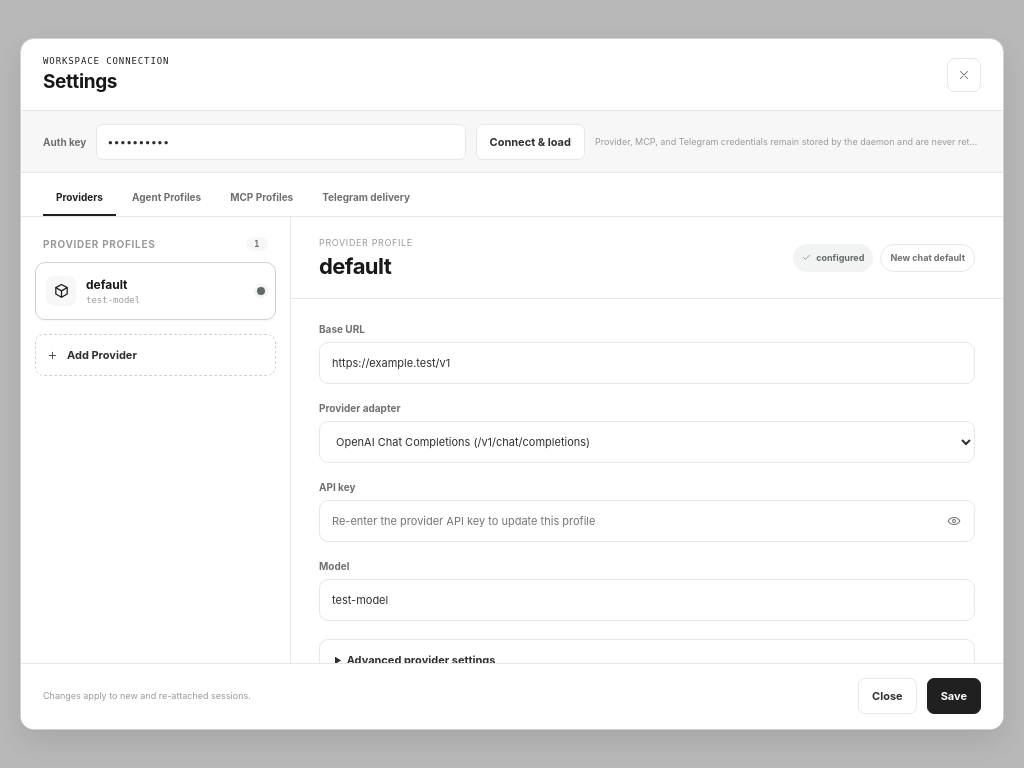
Test: SettingsModal › requires the provider API key after profile fields change
Replace the text in the field showing "test-model" with "changed-model". click: (647, 600)
box: top-left (319, 579), bottom-right (975, 621)
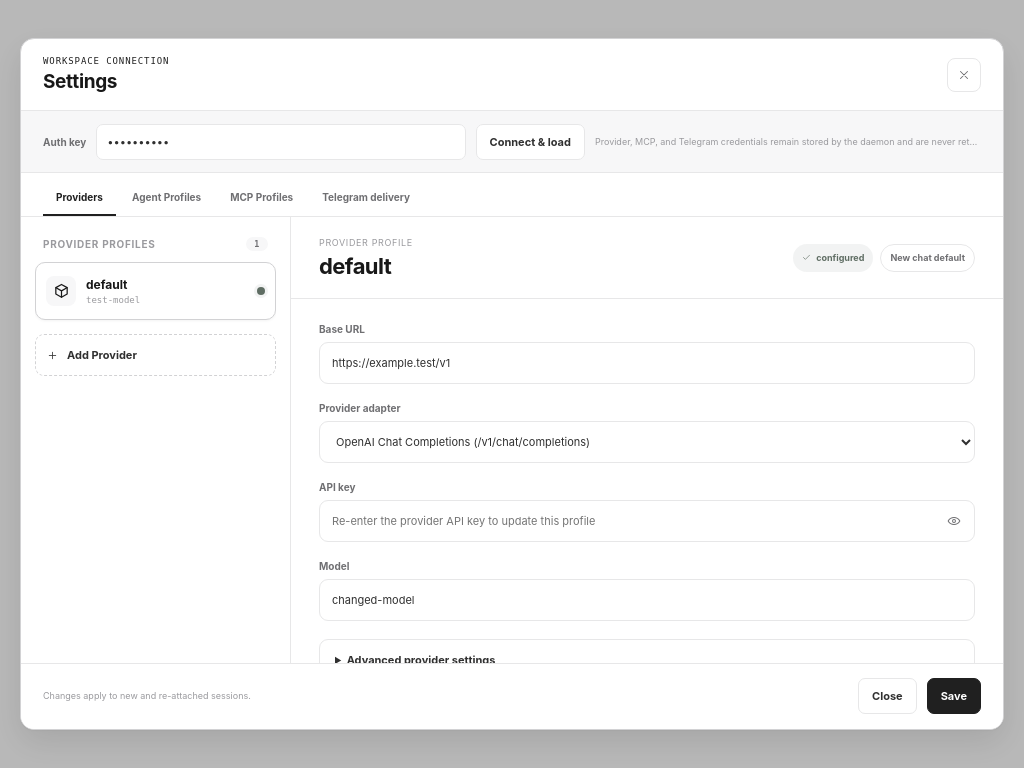
Click the button "Save". click: (954, 696)
box: top-left (927, 678), bottom-right (981, 714)
(page scrolled)
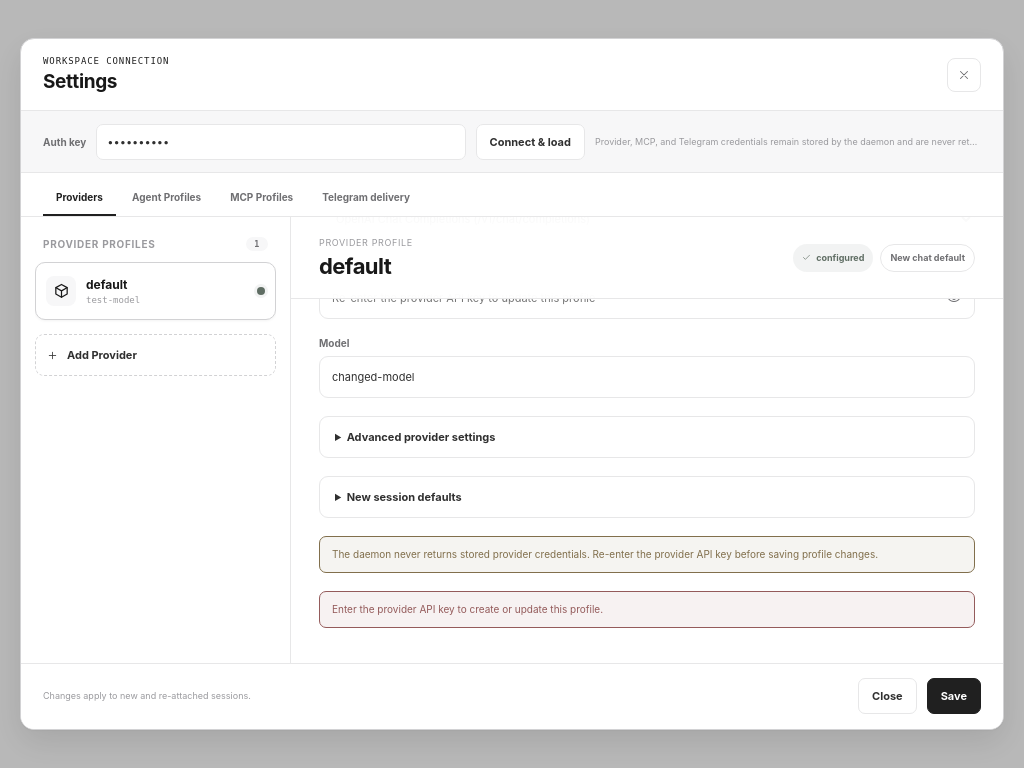
Check: the text "Enter the provider API key to create or update this profile." is shown, box top-left (319, 591), bottom-right (975, 628)
